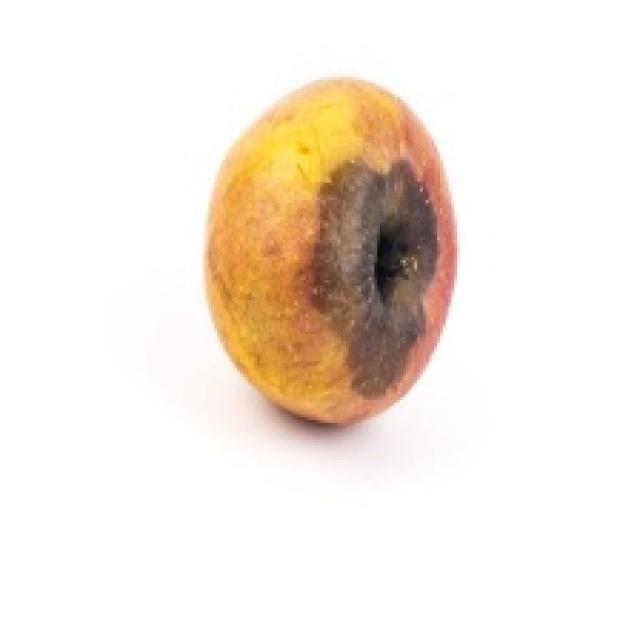rotten_apple: (212, 80, 454, 420)
